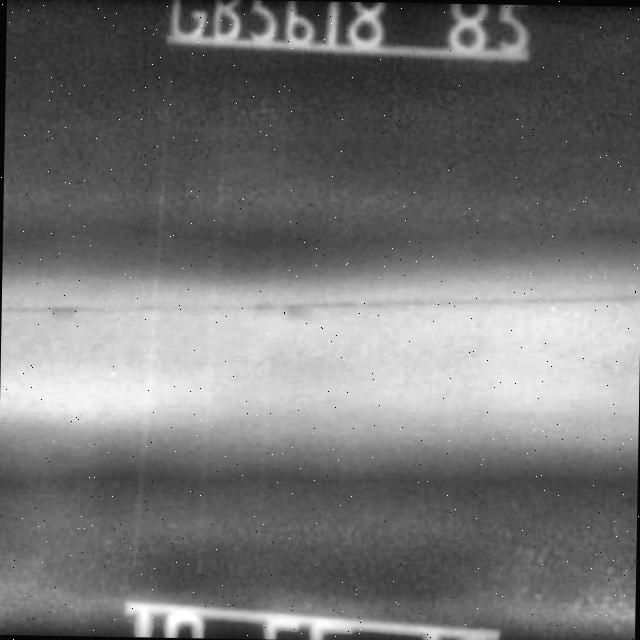LoP-LoF: (0, 277, 640, 340)
